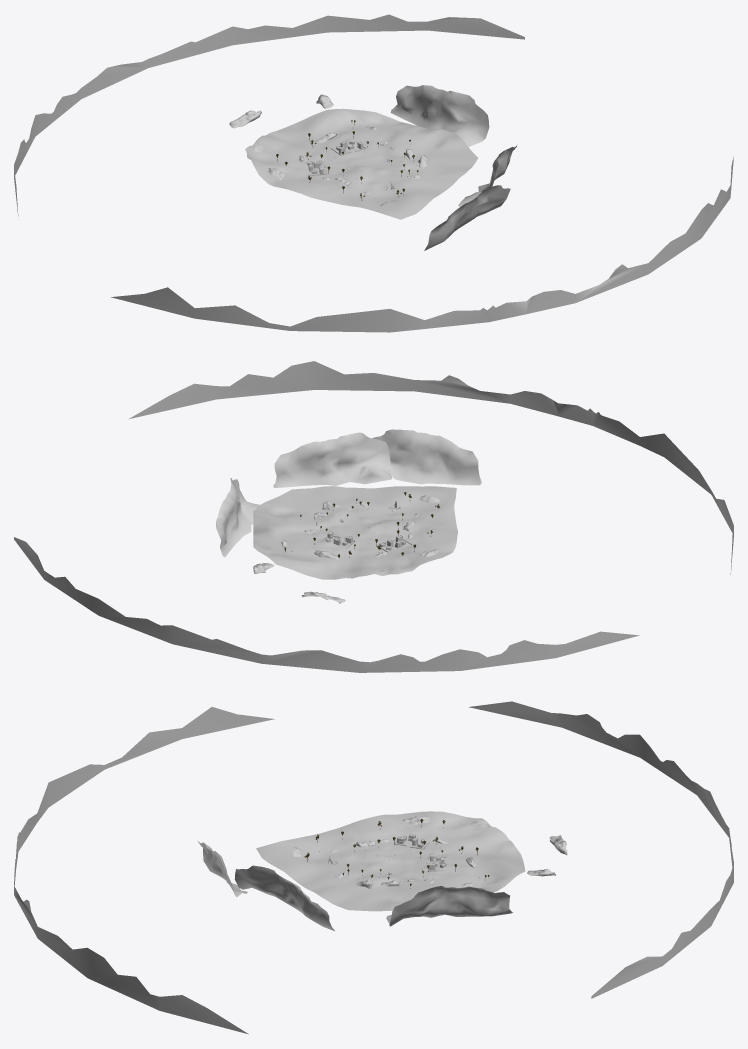
The model's file is Map04_Desert.fbx.
3 views of the same model, one above another, from view 1: azimuth 30°, elevation 25°; view 2: azimuth 150°, elevation 25°; view 3: azimuth 270°, elevation 25° (orthographic). The views are drawn at different scales.
Parts seen in each view (by area): view 1: Assets_23, Assets_26, Assets_2, Assets_42, Assets_31, Assets_41; view 2: Assets_23, Assets_26, Assets_2, Assets_41, Assets_31, Assets_42; view 3: Assets_23, Assets_26, Assets_2, Assets_42, Assets_41, Assets_31.
Boxes of the visible parts, box(x1,y1,x2,y2) form: Assets_23: box(245, 108, 477, 219); Assets_26: box(111, 157, 733, 332); Assets_2: box(14, 14, 524, 216); Assets_42: box(390, 85, 489, 146); Assets_31: box(424, 185, 510, 250); Assets_41: box(458, 145, 516, 206); Assets_23: box(253, 486, 457, 579); Assets_26: box(128, 361, 733, 574); Assets_2: box(14, 537, 639, 672); Assets_41: box(273, 432, 392, 487); Assets_31: box(372, 429, 481, 485); Assets_42: box(216, 478, 259, 557); Assets_23: box(256, 811, 525, 911); Assets_26: box(14, 707, 274, 1034); Assets_2: box(468, 701, 733, 998); Assets_42: box(386, 886, 512, 926); Assets_41: box(234, 865, 334, 930); Assets_31: box(198, 841, 247, 897).
Bounding box in the file's own units: 1254 × 92.32 × 1204.
